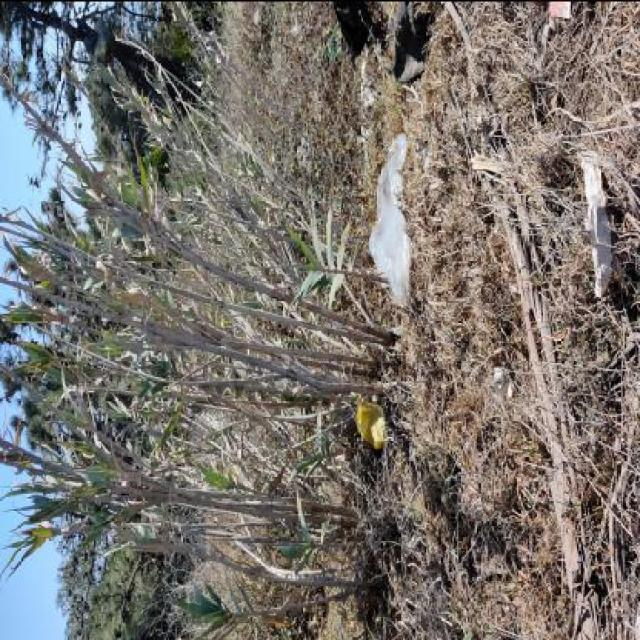plastic: (368, 131, 412, 307), (353, 392, 387, 450)
